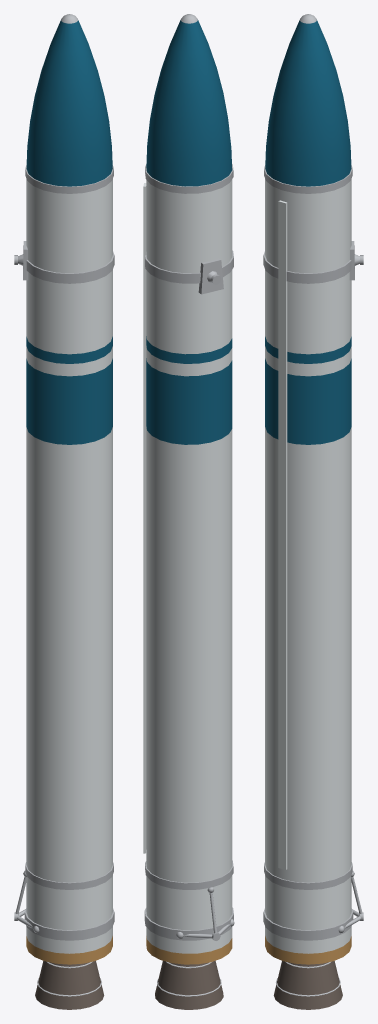
File: booster_small_solid.glb
3 views of the same model, side by side, from view 1: azimuth 90°, elevation 25°; view 2: azimuth 210°, elevation 25°; view 3: azimuth 270°, elevation 25° (orthographic).
Parts seen in each view (by area): view 1: booster_small_solid_mesh; view 2: booster_small_solid_mesh; view 3: booster_small_solid_mesh.
Boxes of the visible parts, left/top/right/bottom form: booster_small_solid_mesh: left=14, top=14, right=114, bottom=1009; booster_small_solid_mesh: left=143, top=14, right=234, bottom=1009; booster_small_solid_mesh: left=263, top=14, right=363, bottom=1009.
Bounding box in the file's own units: 1.66 × 20 × 1.85.
